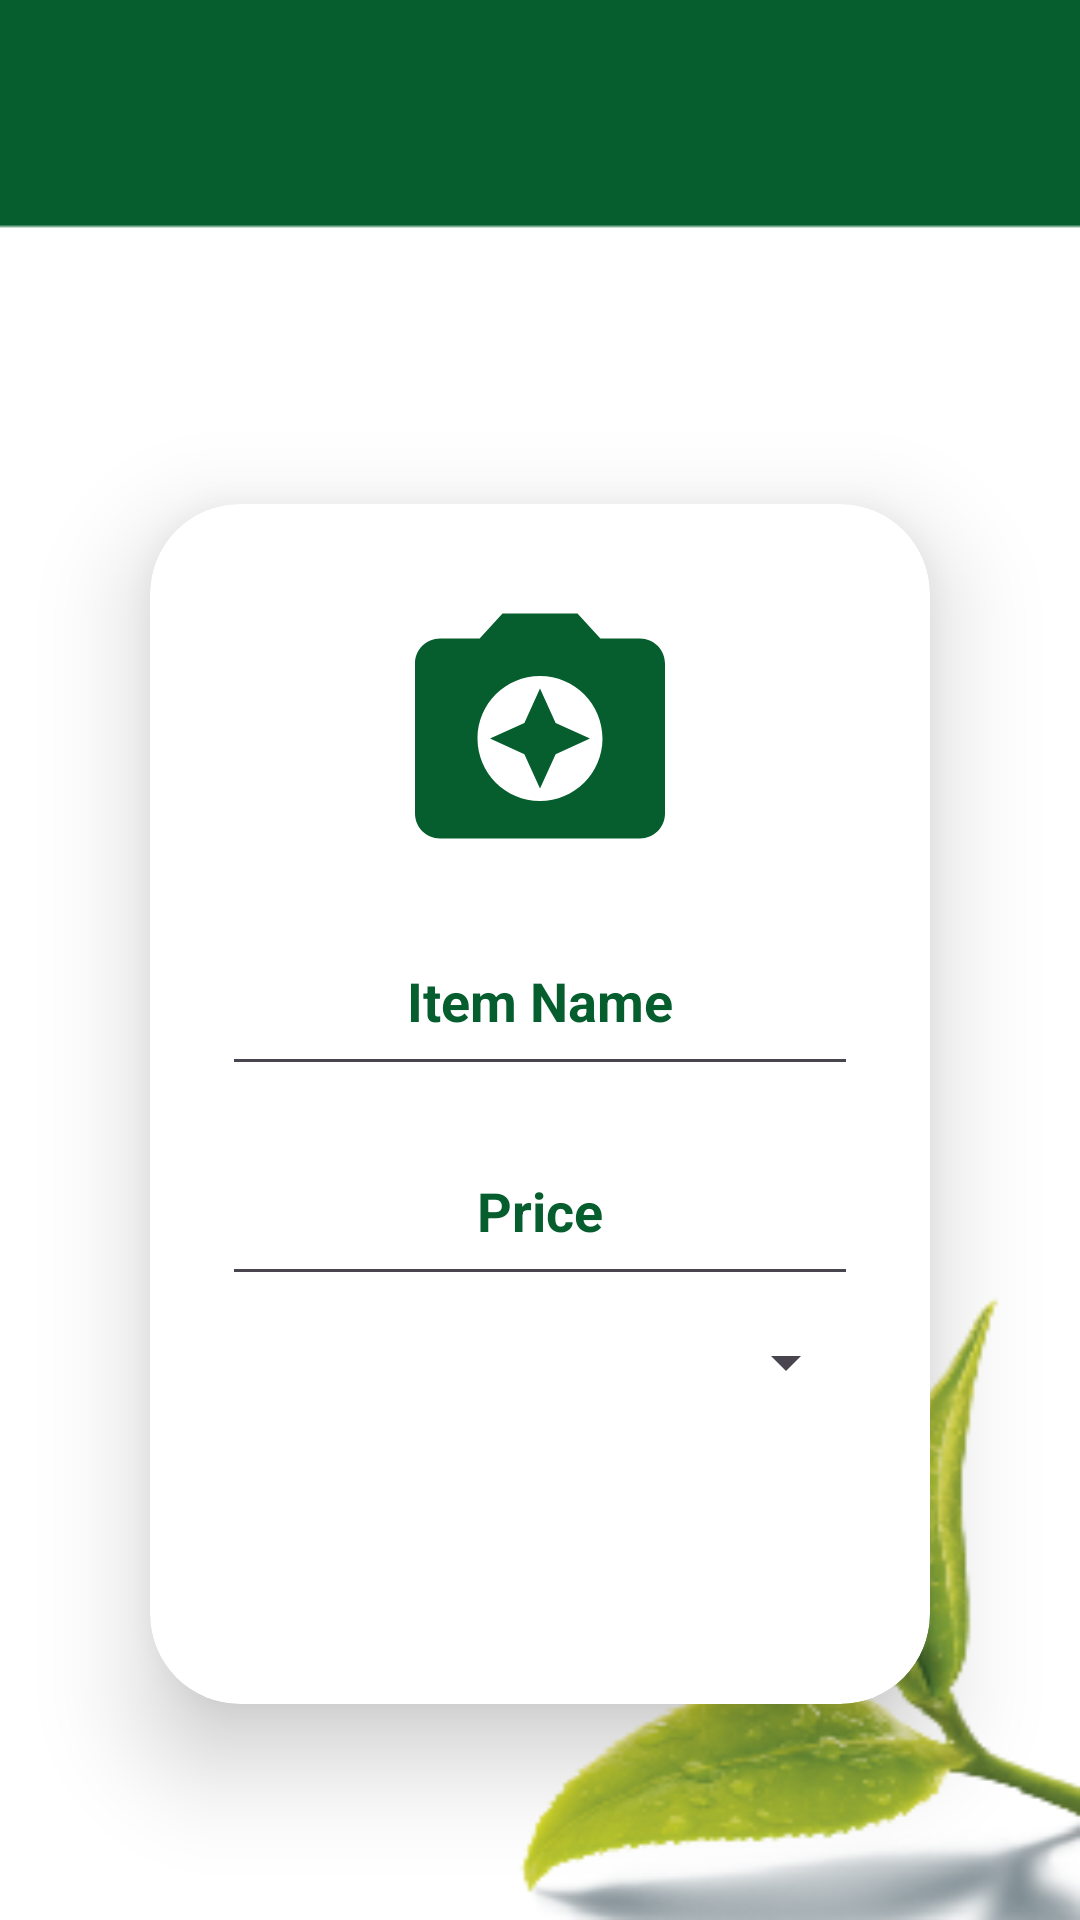

Screen size 1080*1920. Icon name, then its box in pixels as rect(x1, y1, x2, y2):
camera enhance: rect(415, 613, 665, 839)
